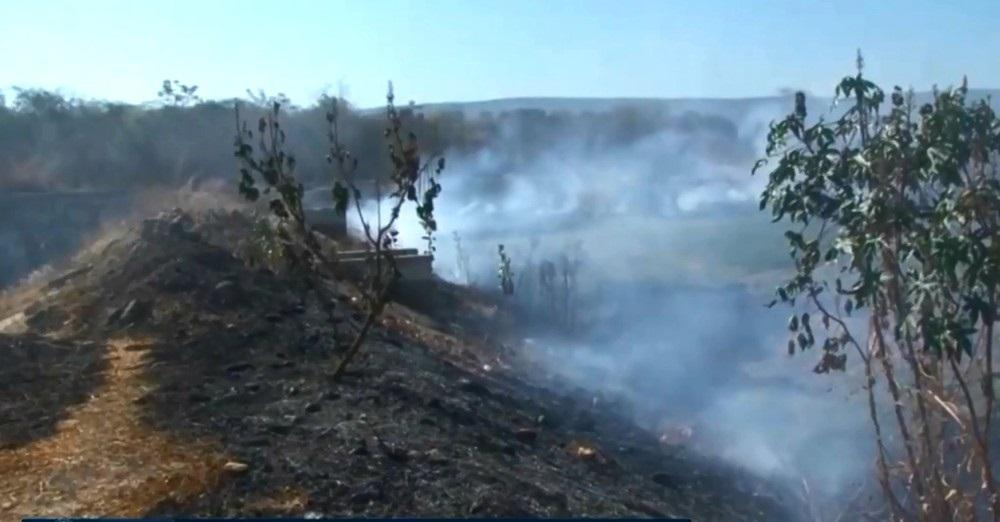smoke: (639, 310, 781, 427)
